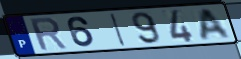4: (168, 8, 195, 44)
6: (67, 15, 96, 49)
9: (130, 11, 163, 45)
A: (200, 7, 233, 41)
I: (109, 12, 128, 48)
R: (27, 16, 70, 52)
